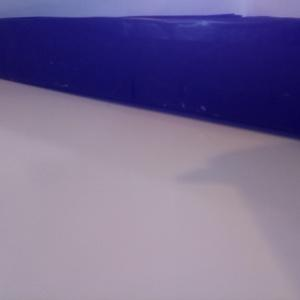zone: (1, 13, 300, 138)
